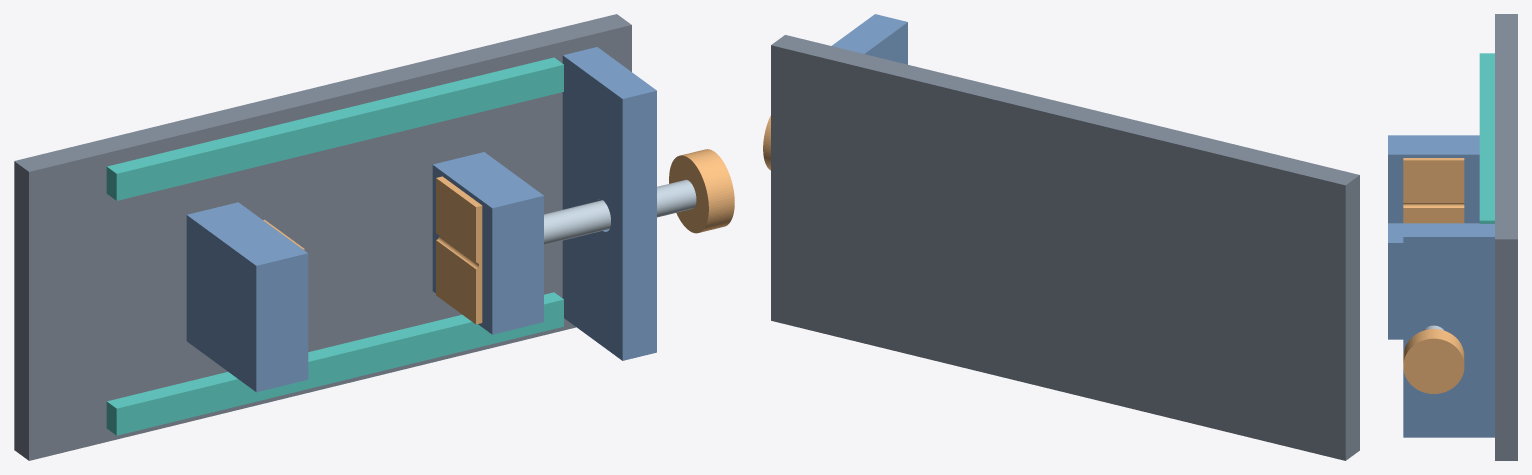
File: assembly.glb
3 renders of one model, left to right at view 1: azimuth 30°, elevation 25°; view 2: azimuth 150°, elevation 25°; view 3: azimuth 270°, elevation 25°, orthographic. The views are drawn at different scales.
Parts seen in each view (by area): view 1: base, actuator_support, fixed_jaw, rail_right, rail_left, moving_jaw, moving_pad, knob, rod; view 2: base, actuator_support; view 3: actuator_support, base, fixed_jaw, fixed_pad, knob, rail_right, moving_jaw.
Boxes of the visible parts, box(x1,y1,x2,y2) form: base: box(14, 14, 631, 460); actuator_support: box(562, 47, 656, 360); fixed_jaw: box(186, 202, 308, 392); rail_right: box(106, 57, 563, 200); rail_left: box(106, 292, 563, 435); moving_jaw: box(432, 152, 543, 334); moving_pad: box(436, 176, 482, 324); knob: box(669, 149, 734, 233); rod: box(544, 179, 696, 244); base: box(771, 35, 1359, 460); actuator_support: box(832, 14, 907, 64); actuator_support: box(1403, 224, 1494, 437); base: box(1495, 14, 1517, 460); fixed_jaw: box(1388, 135, 1479, 223); fixed_pad: box(1403, 158, 1464, 223); knob: box(1403, 329, 1464, 393); rail_right: box(1479, 53, 1494, 223); moving_jaw: box(1388, 223, 1479, 339).
Bounding box in the file's own units: 0.1448 × 0.0619 × 0.0329.
